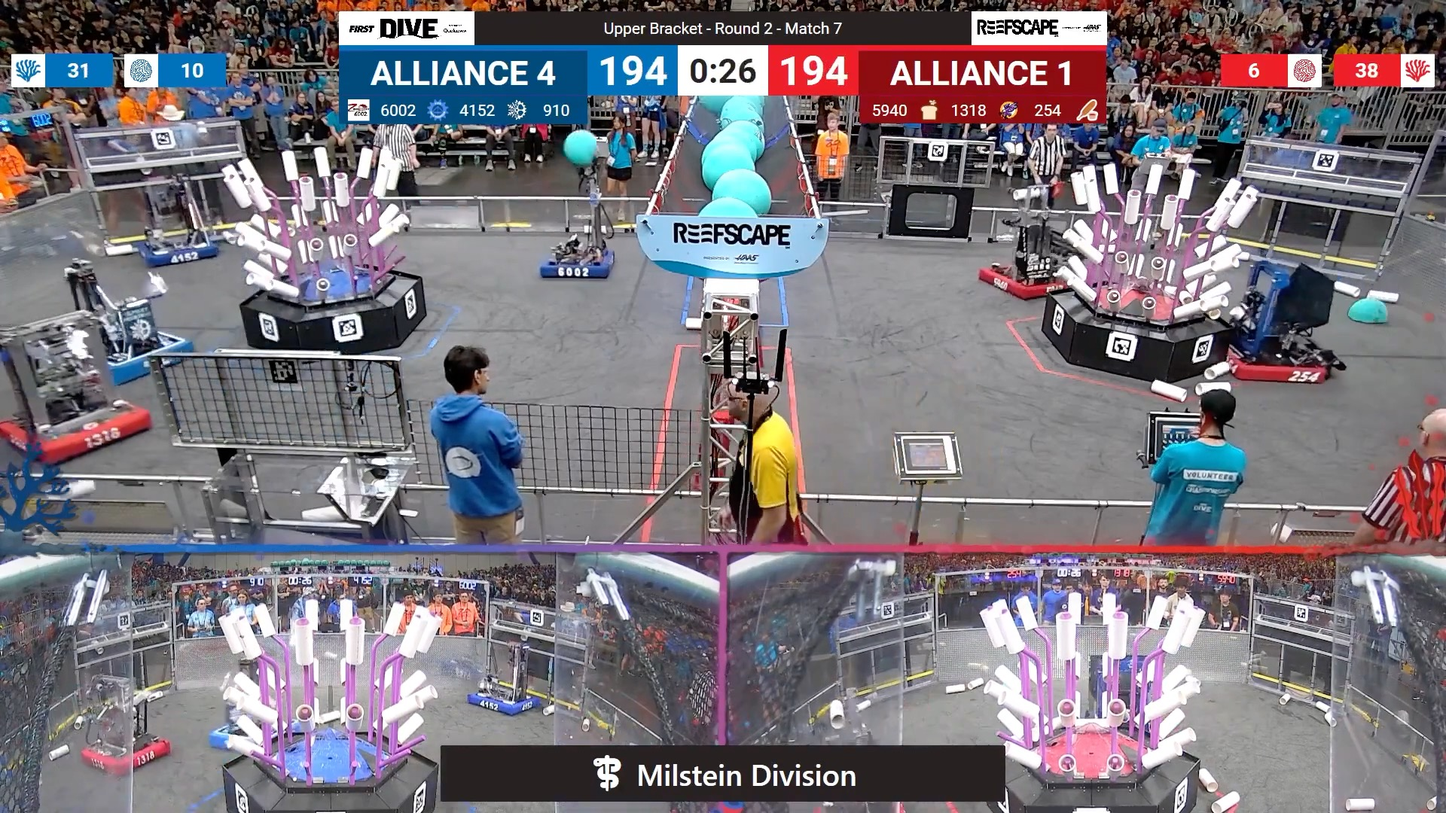bumpers: (24, 327, 194, 391), (12, 398, 163, 470), (1219, 334, 1340, 393), (973, 257, 1078, 305), (73, 732, 174, 780), (130, 238, 227, 273), (208, 715, 295, 754), (533, 245, 619, 284), (459, 687, 542, 720)
